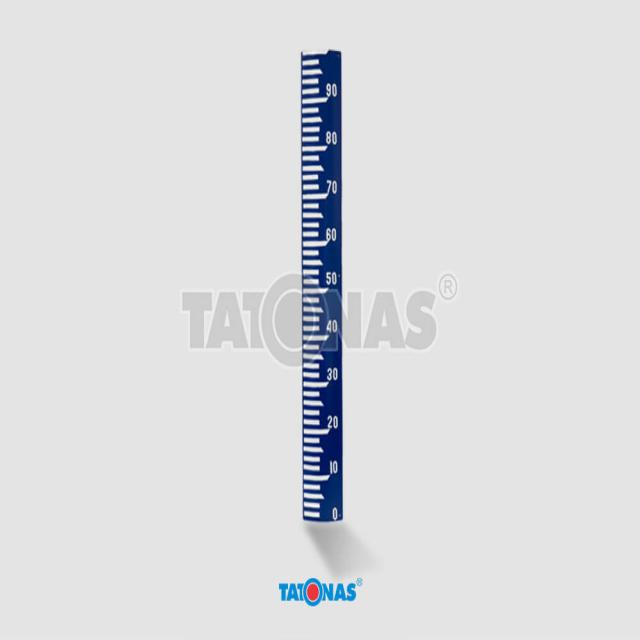staff: (296, 50, 347, 522)
